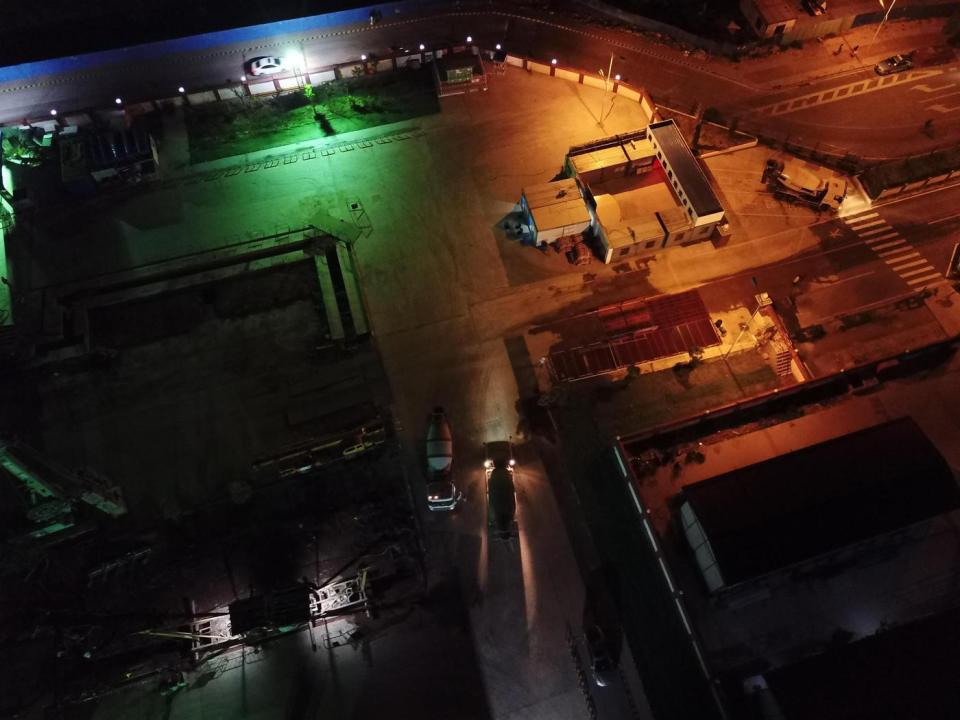car: (581, 621, 619, 688), (875, 53, 915, 75), (250, 56, 292, 75)
truck: (761, 158, 848, 211), (424, 405, 464, 512), (481, 436, 520, 539)
